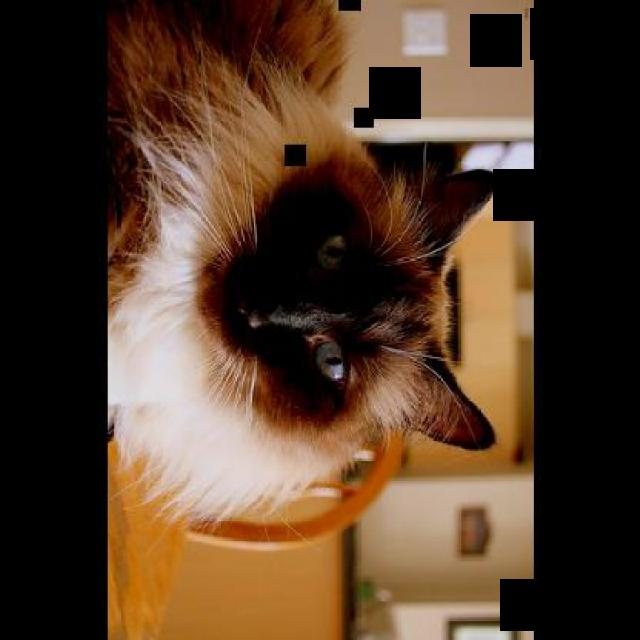unauthorized: (106, 0, 502, 531)
